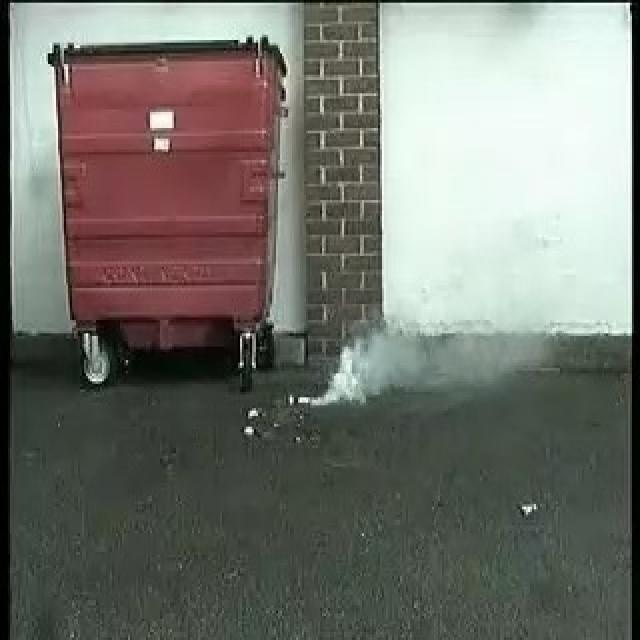smoke: (312, 314, 438, 406)
